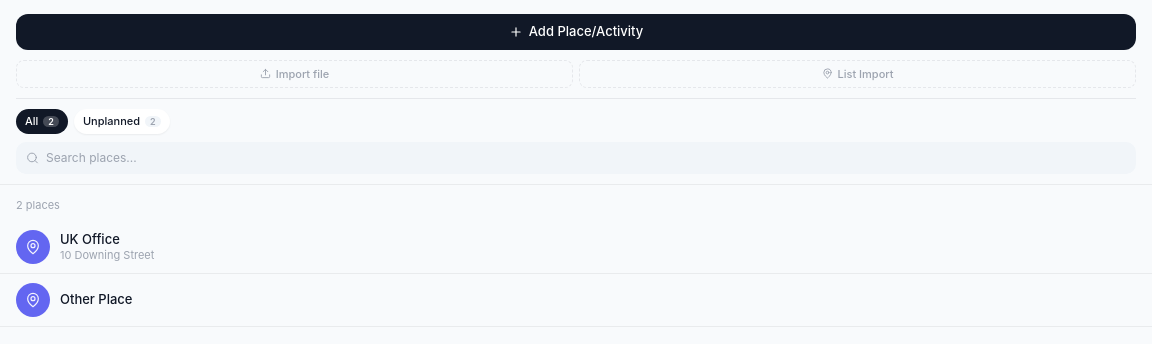
it: Search › FE-PLANNER-SIDEBAR-020: search filters by address
Type "Downing" into the field with placeholder "Search places...".
click(576, 158); type("Downing")  # box [16,142,1136,174]
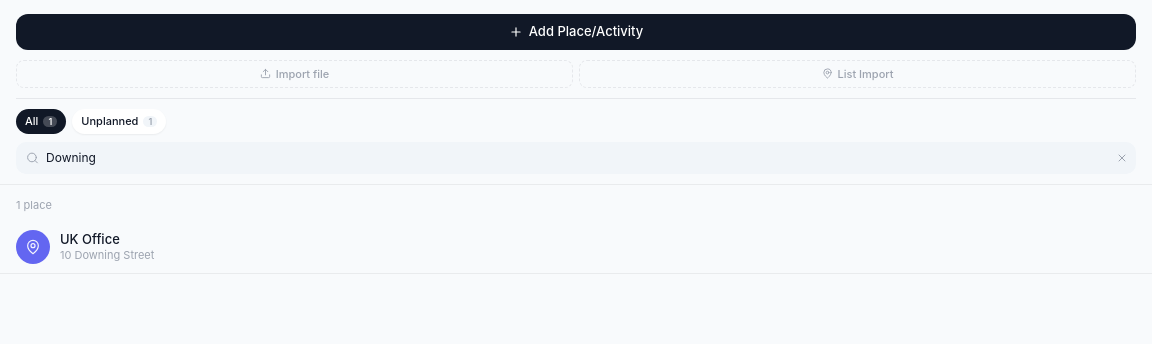
Expected: the text "UK Office" is shown, [60,231,120,247]
Expected: the text "Other Place" is gone
